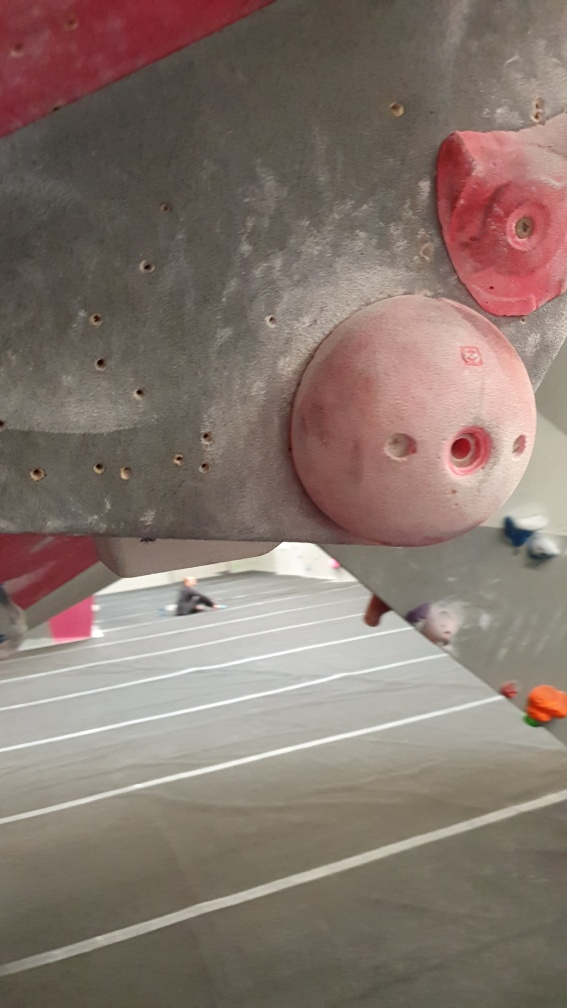Sloper: (300, 291, 525, 549)
